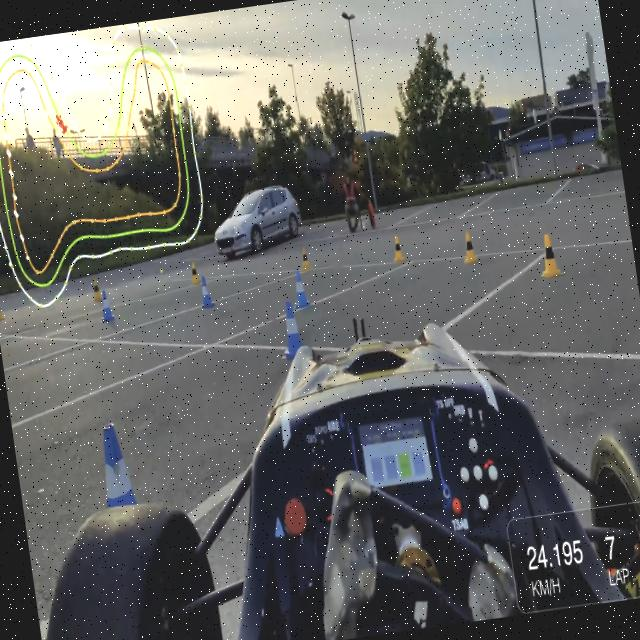blue_cone: (86, 419, 151, 561), (278, 300, 310, 360), (290, 268, 310, 308), (198, 274, 216, 310), (98, 288, 117, 322)
yellow_cone: (538, 232, 562, 278), (461, 230, 479, 264), (391, 234, 406, 262), (91, 278, 104, 304), (300, 248, 312, 271), (189, 262, 201, 284), (0, 294, 4, 320)
